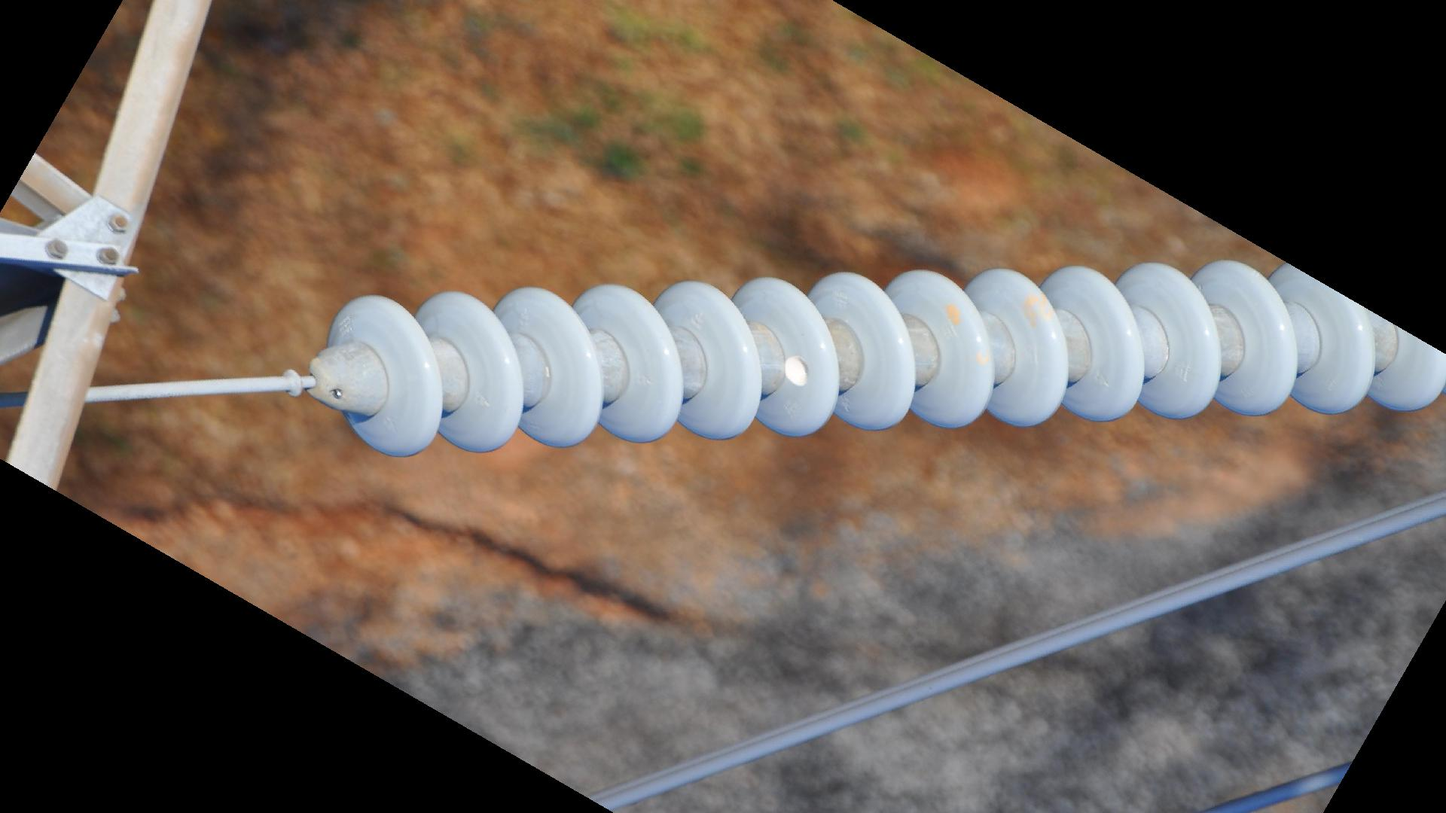insulator: (319, 251, 1446, 464)
insulator_breakage: (775, 347, 817, 393)
